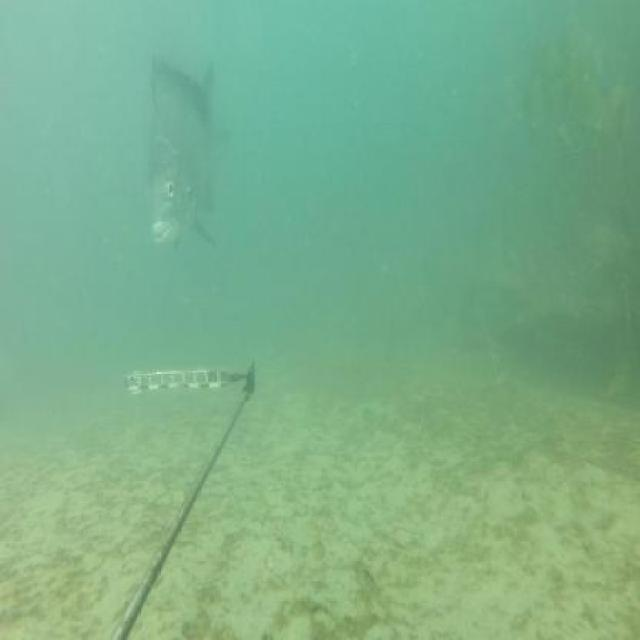acanthopagrus_palmaris: (143, 44, 232, 259)
